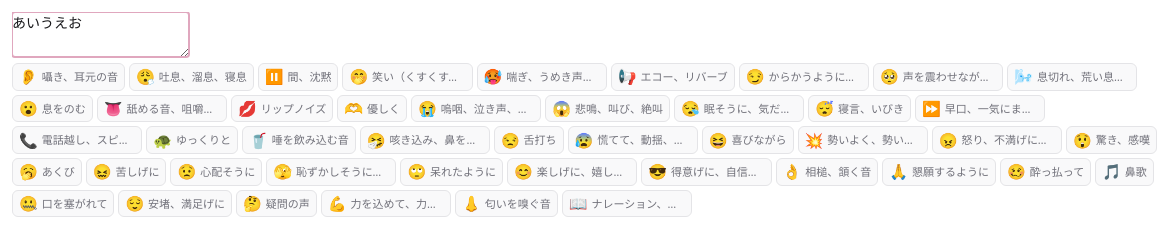
Test: 実ブラウザのフォーカス遷移を模しても、テキスト欄のカーソル位置に挿入される
Step 1. Click the button "👂 囁き、耳元の音" → (68, 77), box [12,63,125,91]
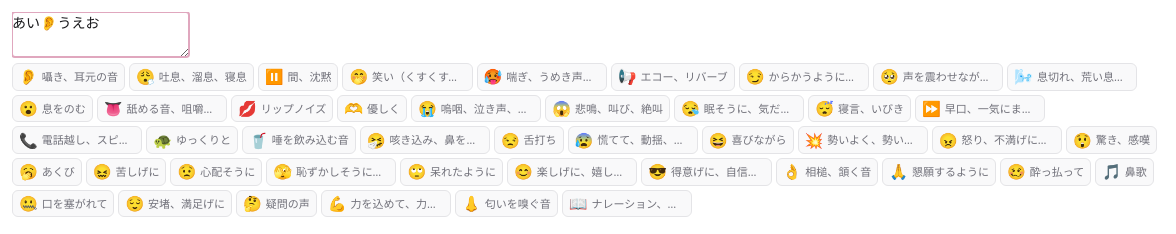
Expected: the text box holds "あい👂うえお", [12,12,189,57]
